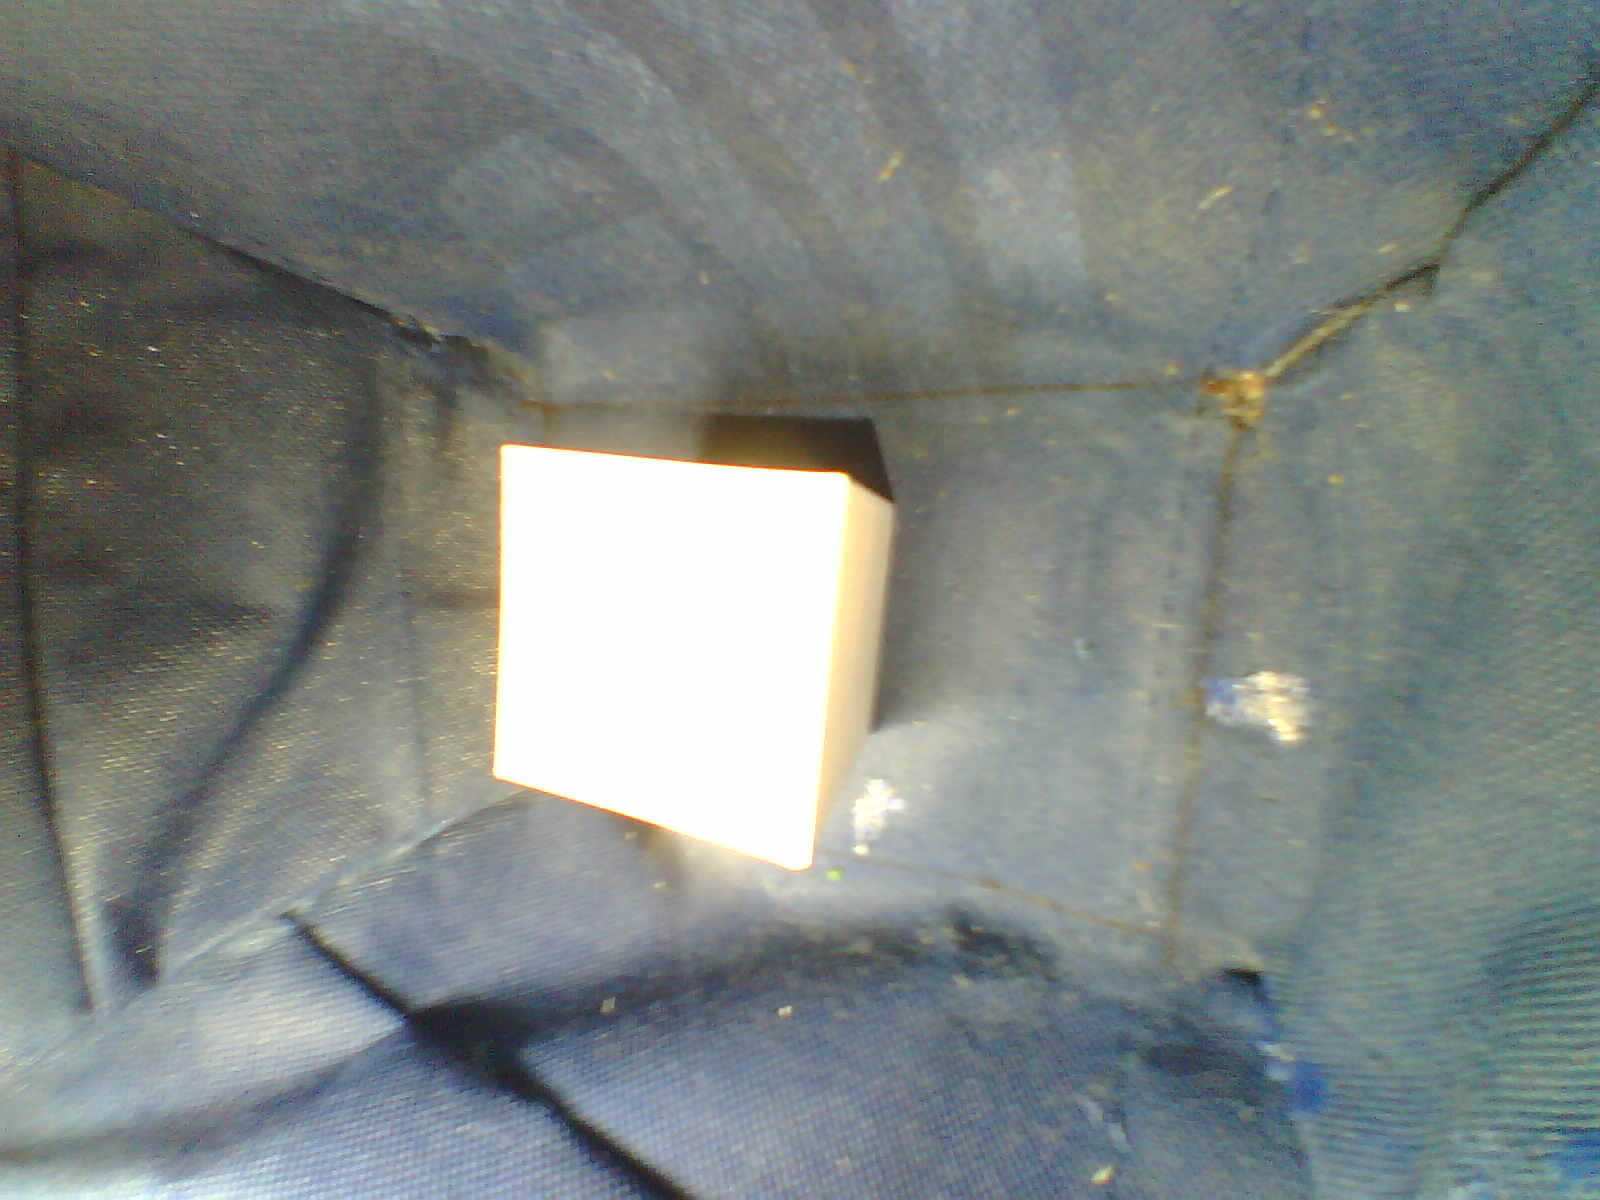cube-hard: (465, 416, 912, 887)
